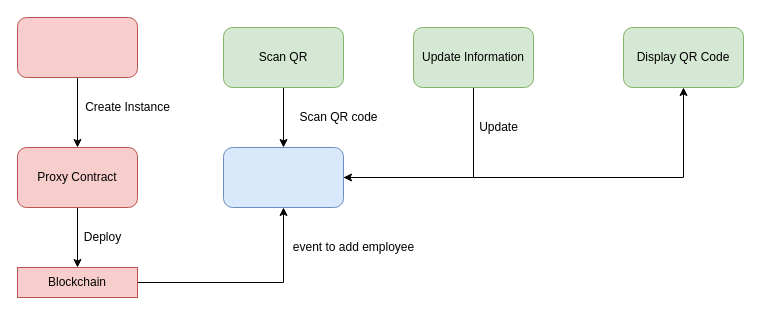
Some shapes in this 761 by 315 pixel diagram are drawn without their labels. Here are the shapes that lost their labels. From the top down, the centre of each, then its label:
At (x=77, y=47): "NameCard Contract".
At (x=283, y=177): "Application (web front)".
